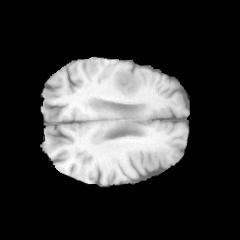glioma: (112, 69, 142, 97)
